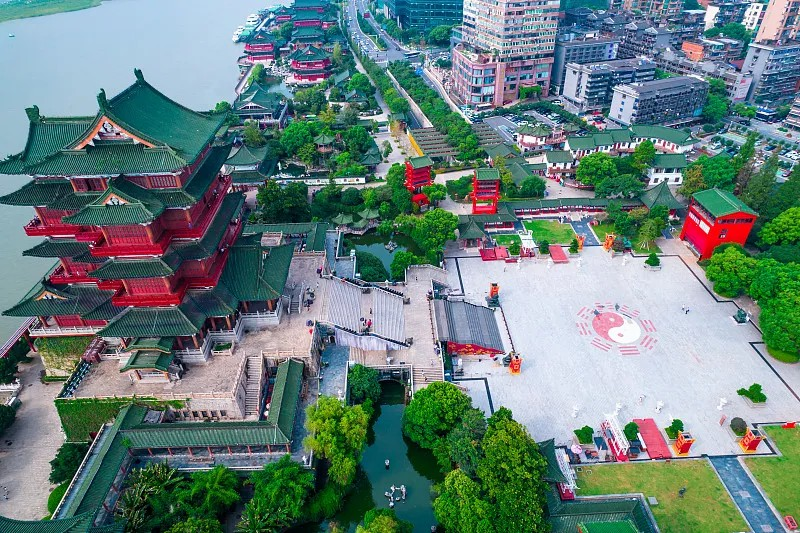Teng: (1, 69, 297, 375)
